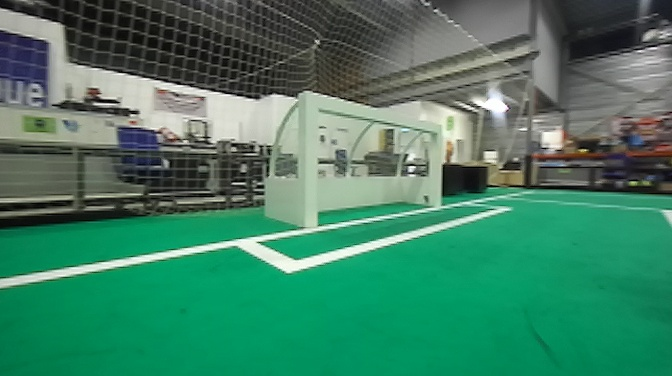goalpost: (288, 86, 327, 231), (421, 116, 456, 223)
